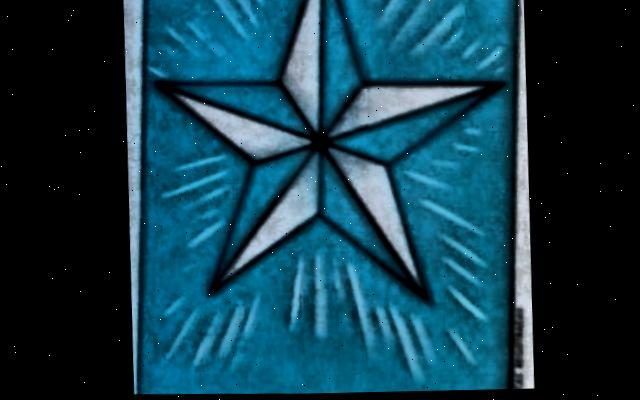La Estrella: (118, 0, 537, 398)
